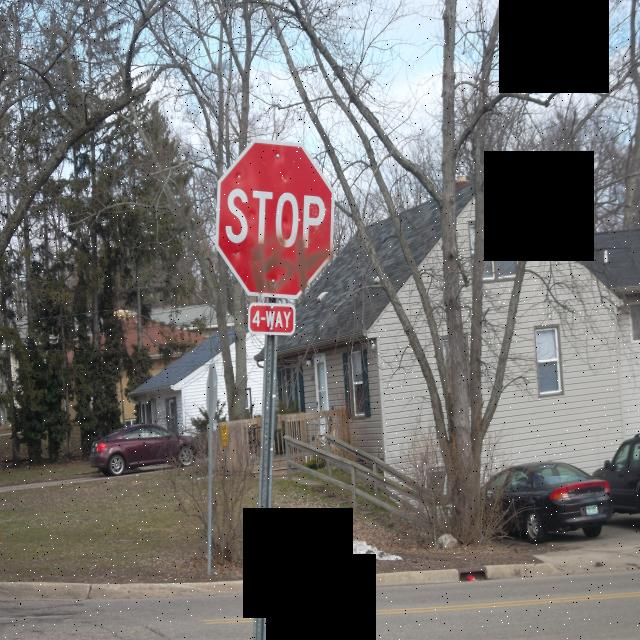stop: (214, 136, 336, 302)
